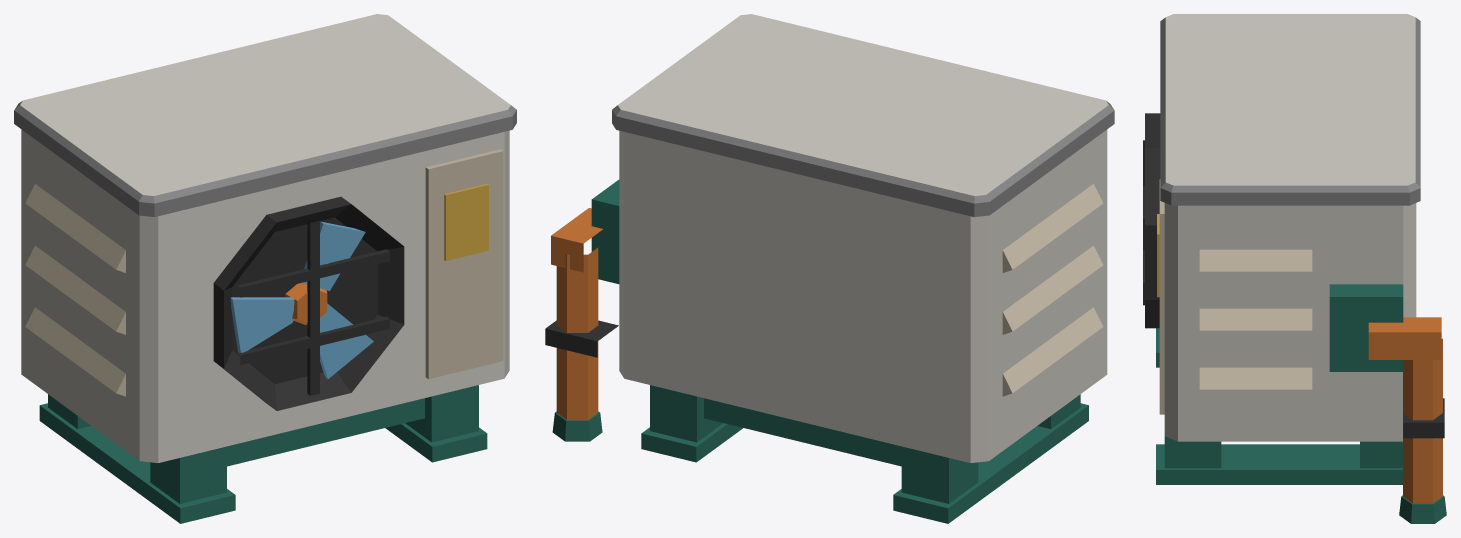
The model's file is cati_klima.glb.
3 renders of one model, left to right at view 1: azimuth 30°, elevation 25°; view 2: azimuth 150°, elevation 25°; view 3: azimuth 270°, elevation 25°, orthographic. The views are drawn at different scales.
Visible parts, largest first — view 1: cati_klima; view 2: cati_klima; view 3: cati_klima.
Part boxes in pixels (x1=…): cati_klima: x1=14, y1=14, x2=516, y2=523; cati_klima: x1=545, y1=14, x2=1114, y2=523; cati_klima: x1=1143, y1=14, x2=1446, y2=523.
Bounding box in the file's own units: 1.1 × 0.8 × 0.7.
